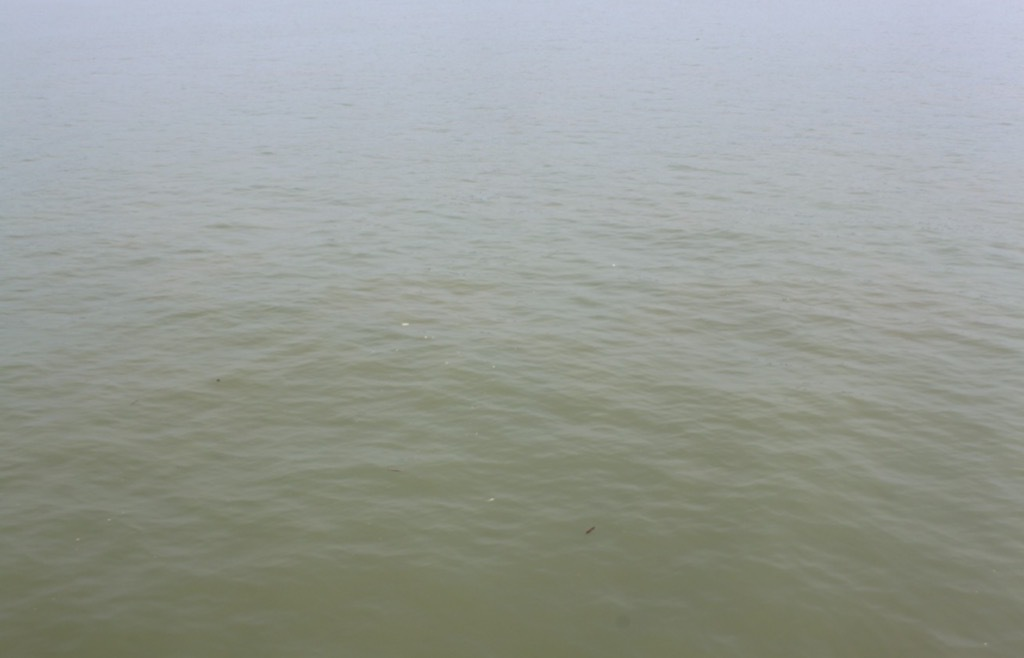organic: (383, 460, 415, 481), (207, 370, 231, 392), (578, 520, 604, 540)
plastic: (484, 496, 497, 504), (609, 261, 620, 269), (400, 320, 410, 328)
